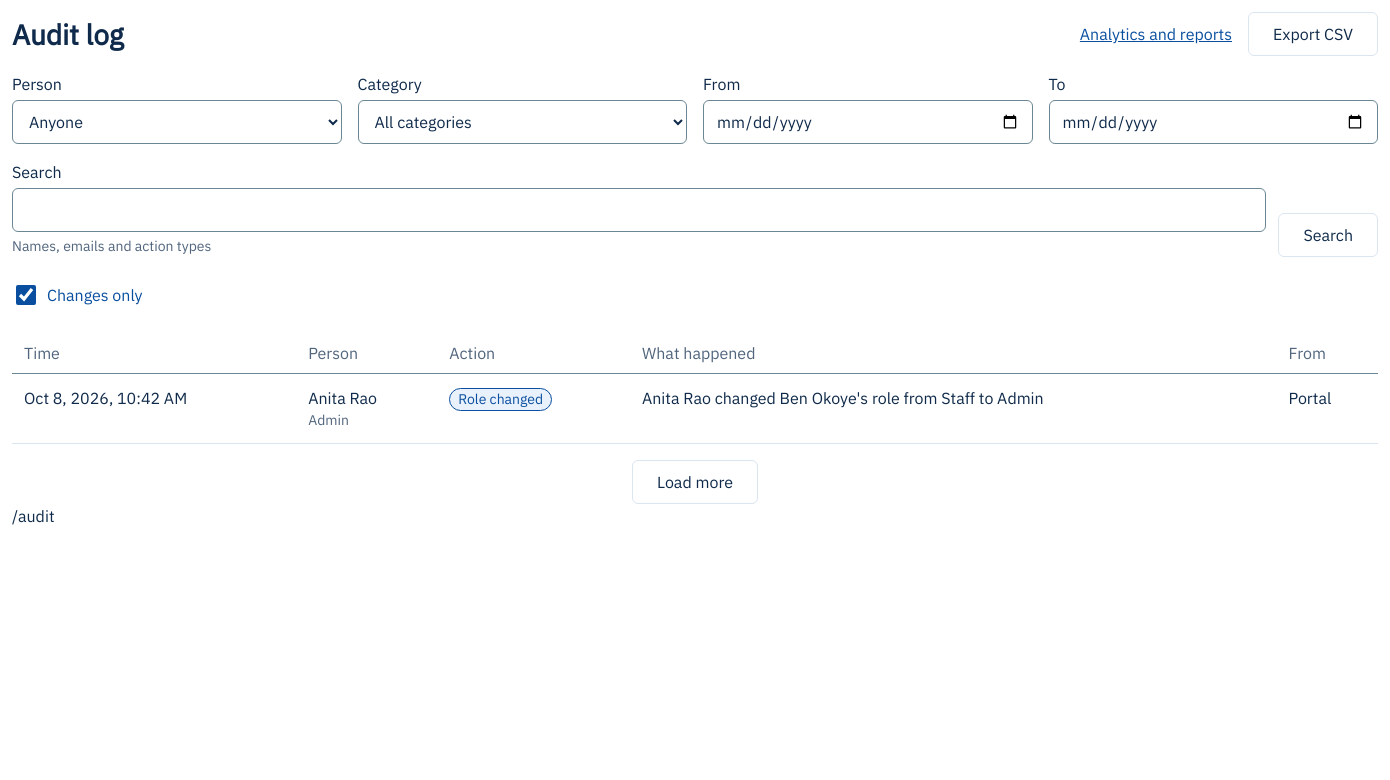
Test case: AuditPage › list › keeps the loaded rows and shows an error when Load more fails
Click the button "Load more" at (695, 482), box [632,460,758,504]
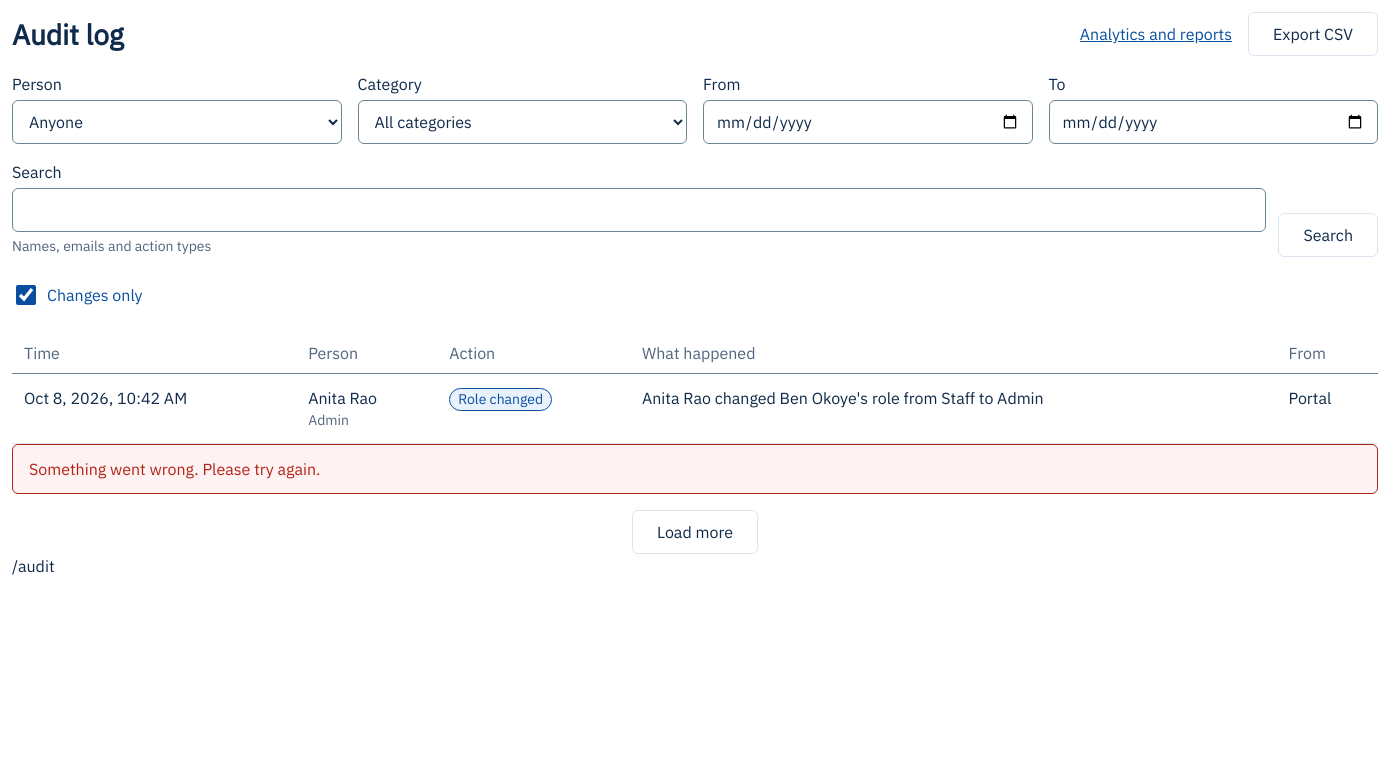
Expected: the button "Anita Rao changed Ben Okoye's role from Staff to Admin" is shown, [642,386,1044,410]
Now the message reads "Something went wrong. Please try again.", box [29,459,320,479]
